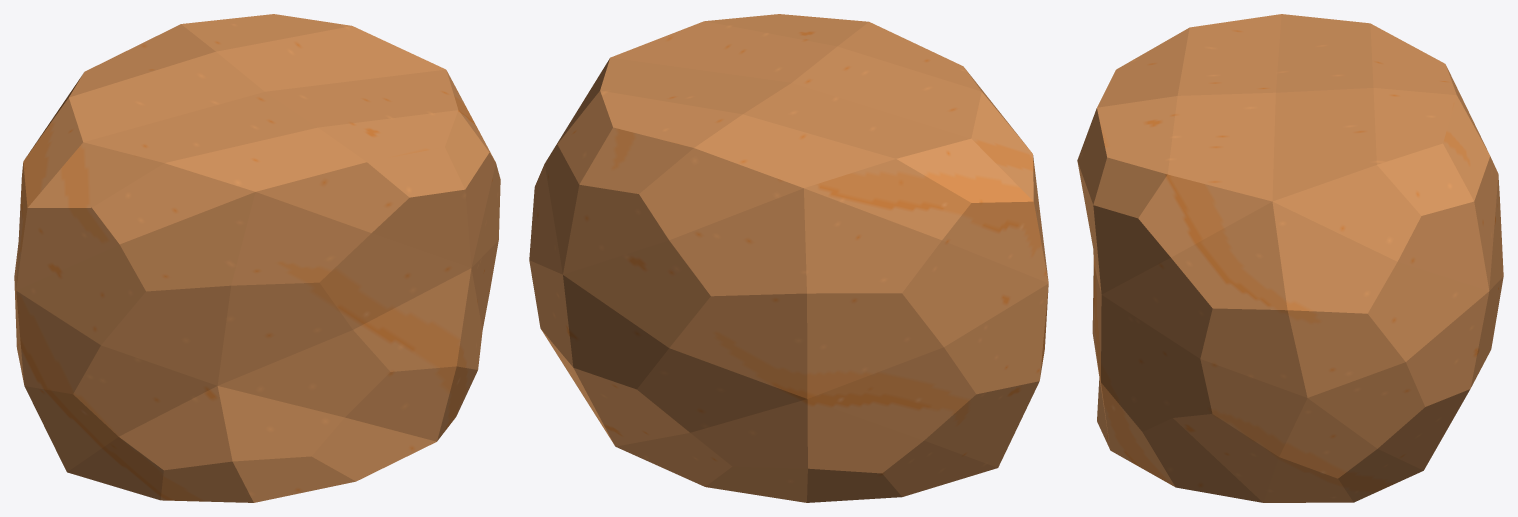
Rendered from rock3.fbx.
3 views of the same model, side by side, from view 1: azimuth 30°, elevation 25°; view 2: azimuth 150°, elevation 25°; view 3: azimuth 270°, elevation 25° (orthographic). The views are drawn at different scales.
Parts seen in each view (by area): view 1: Plane; view 2: Plane; view 3: Plane.
Boxes of the visible parts, x1,y1,x2,y2 form: Plane: (14,14,500,502); Plane: (529,14,1048,502); Plane: (1077,14,1503,502).
Size of the model in its own units: 211 by 148 by 165.
